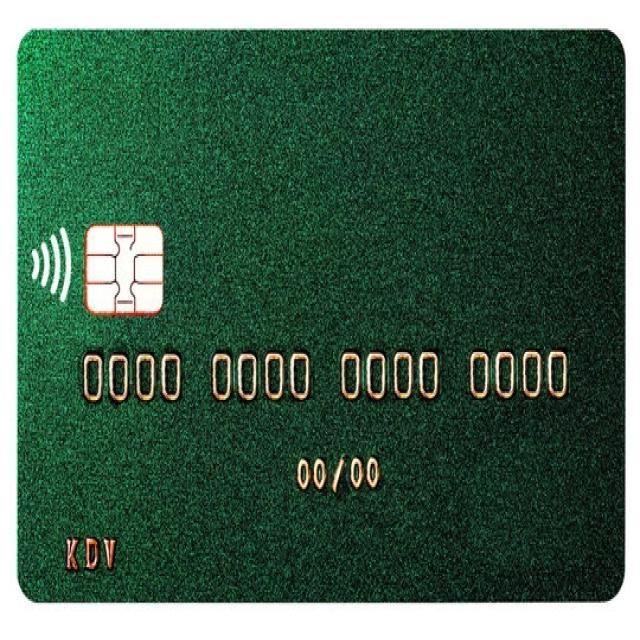payment_card: (15, 28, 627, 602)
